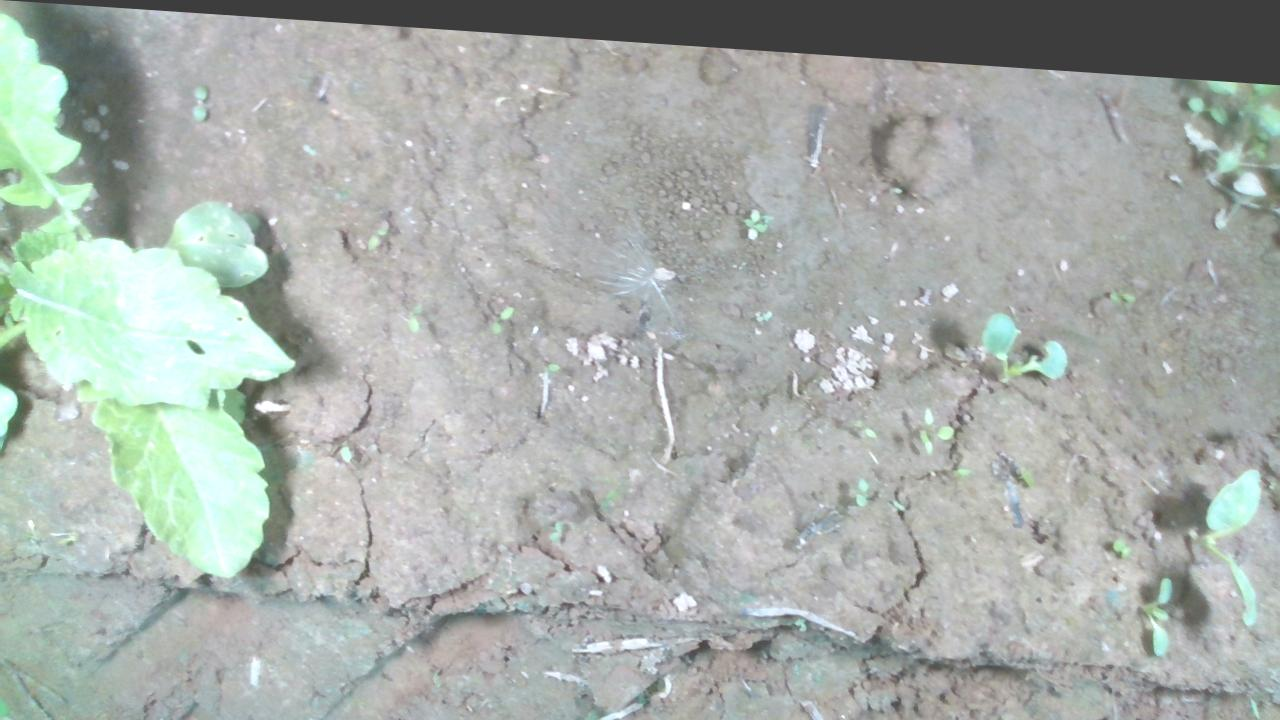weed: (1151, 557, 1173, 643), (740, 196, 766, 233), (487, 296, 513, 328), (191, 79, 209, 121), (1105, 270, 1136, 290), (1110, 521, 1134, 542), (853, 463, 868, 494)
